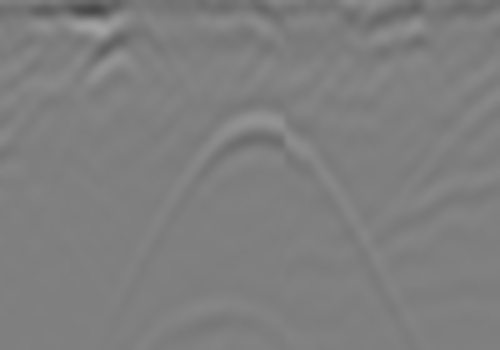hyperbola: (115, 108, 388, 298)
